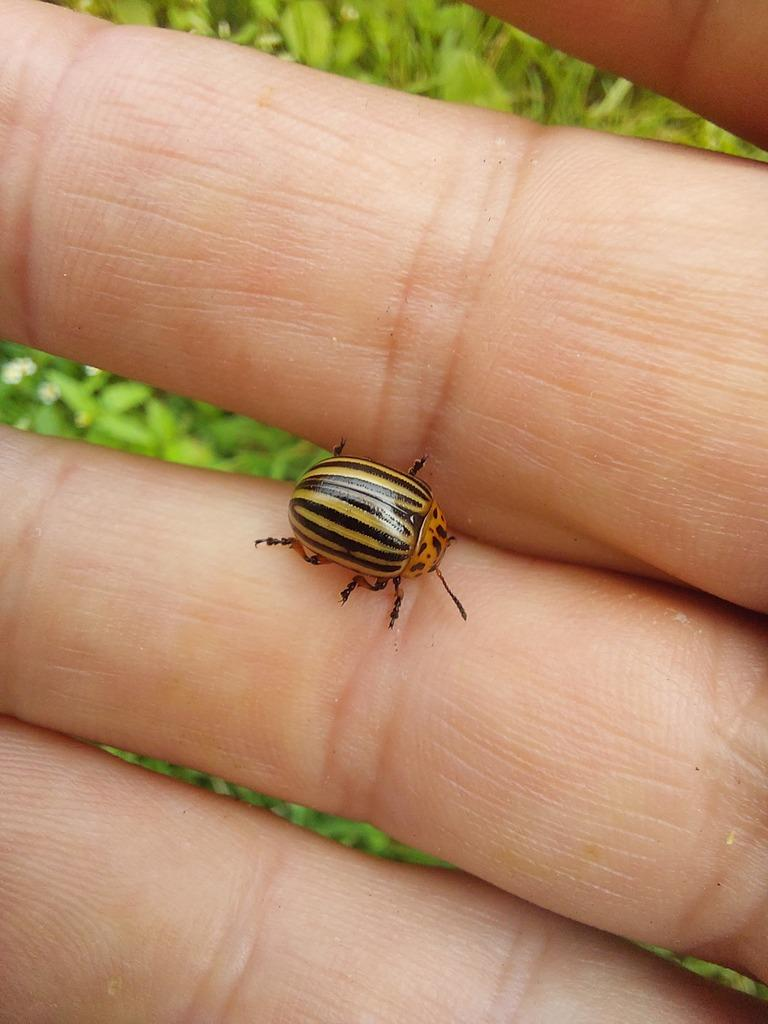potato_beetle: (221, 388, 532, 645)
